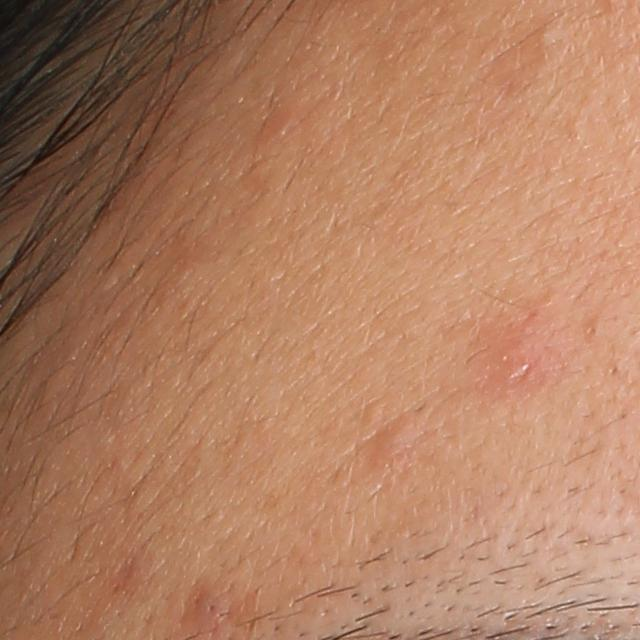comedo: (533, 26, 561, 53)
papule: (184, 582, 224, 630), (374, 418, 419, 455)
